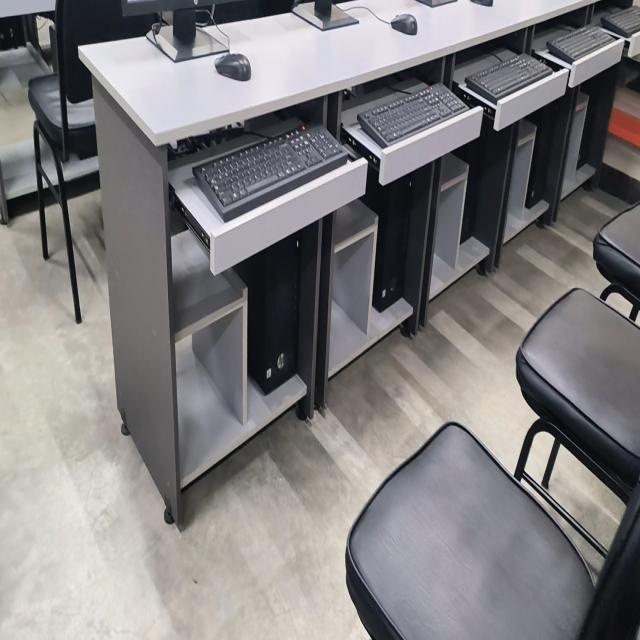Chair: (345, 422, 595, 639), (29, 0, 157, 257), (515, 289, 640, 504), (593, 203, 640, 300)
Cpu: (455, 113, 518, 274), (238, 235, 301, 394), (363, 170, 413, 311), (578, 62, 620, 189), (526, 98, 564, 207)
Keyboard: (193, 124, 347, 221), (357, 85, 470, 148), (535, 25, 624, 88), (465, 55, 552, 104), (601, 6, 640, 58)
Mouse: (215, 53, 251, 81), (391, 14, 417, 35)
